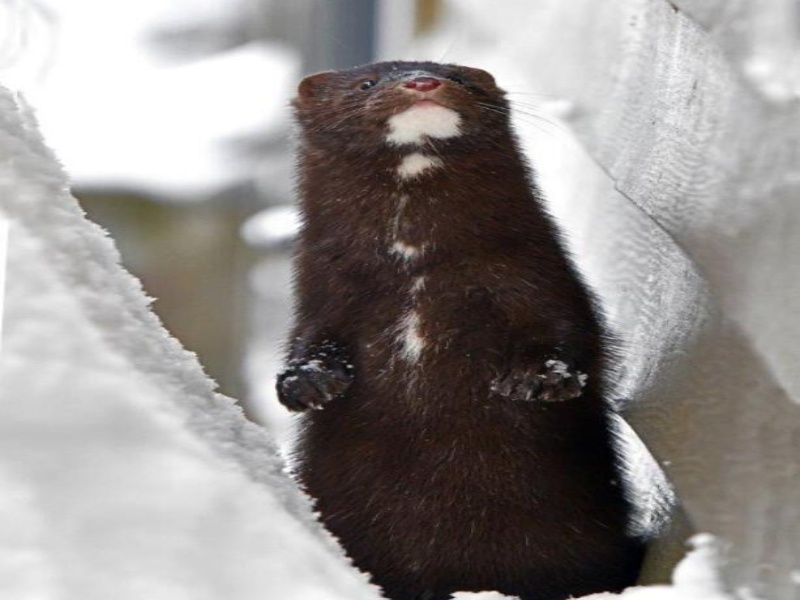minkish: (270, 56, 650, 591)
